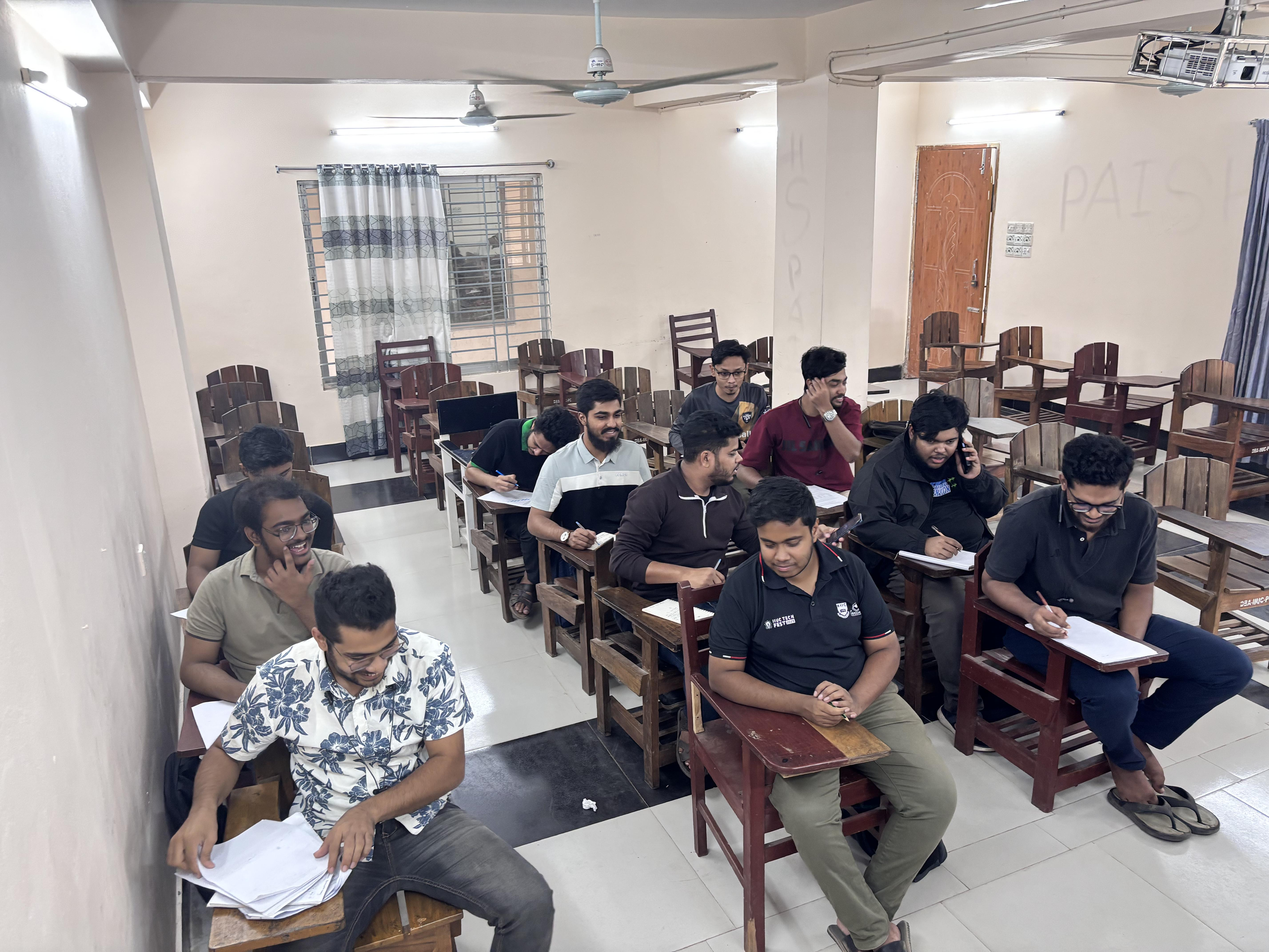no_cheating: (129, 601, 482, 929), (978, 442, 1203, 732), (705, 487, 903, 777), (538, 371, 650, 571), (452, 397, 581, 520)
suspicious_moving: (176, 495, 363, 693), (773, 347, 869, 519), (688, 326, 770, 437)
using_phone: (858, 399, 1010, 585)
